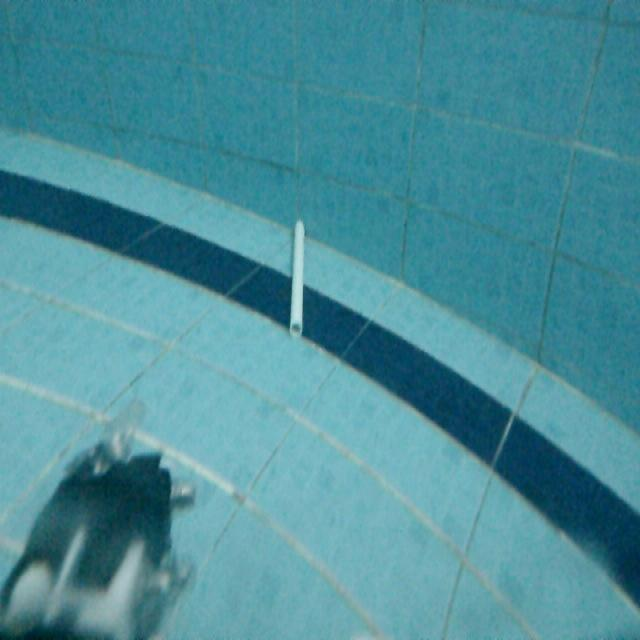Cube: (286, 214, 307, 338)
